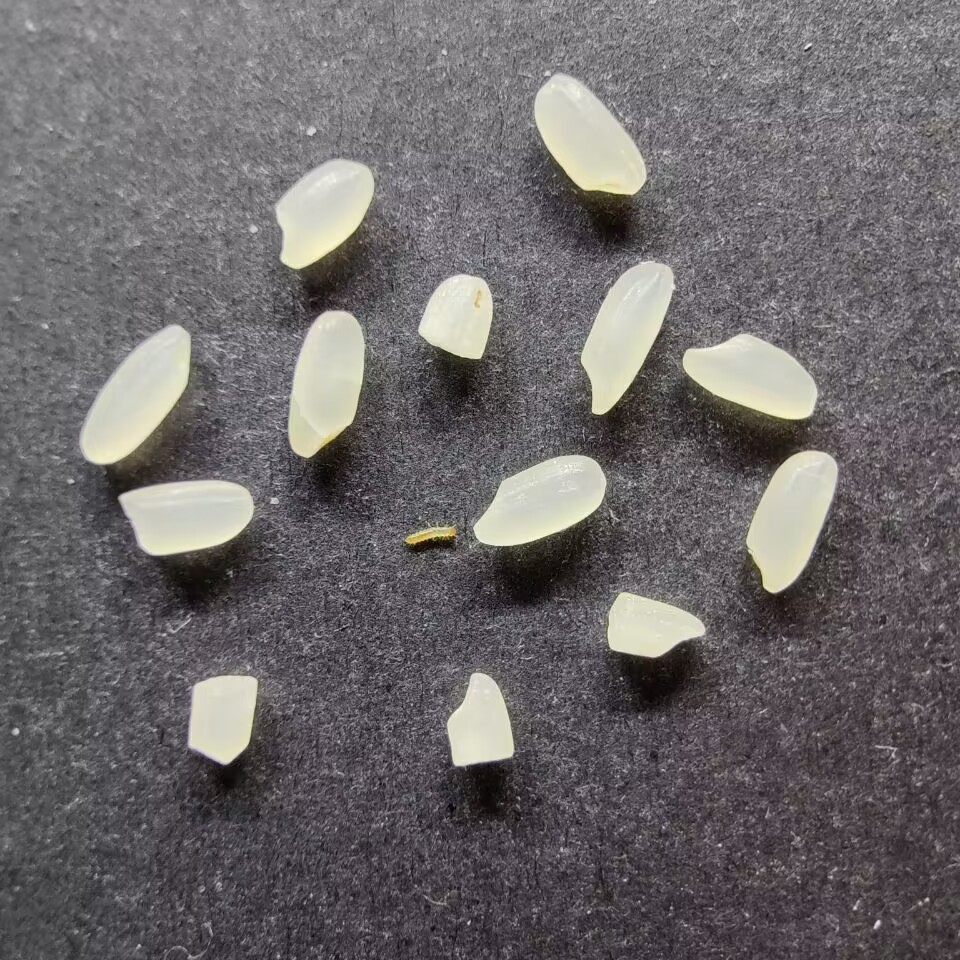broken: (605, 589, 707, 658), (445, 671, 515, 767), (186, 675, 258, 765), (418, 274, 493, 360)
others: (402, 523, 457, 548)
rice: (78, 324, 192, 464), (579, 259, 672, 415), (532, 73, 647, 195), (743, 450, 840, 593), (472, 453, 605, 546), (681, 332, 817, 419), (287, 309, 366, 458), (274, 159, 373, 269), (118, 480, 252, 555)
